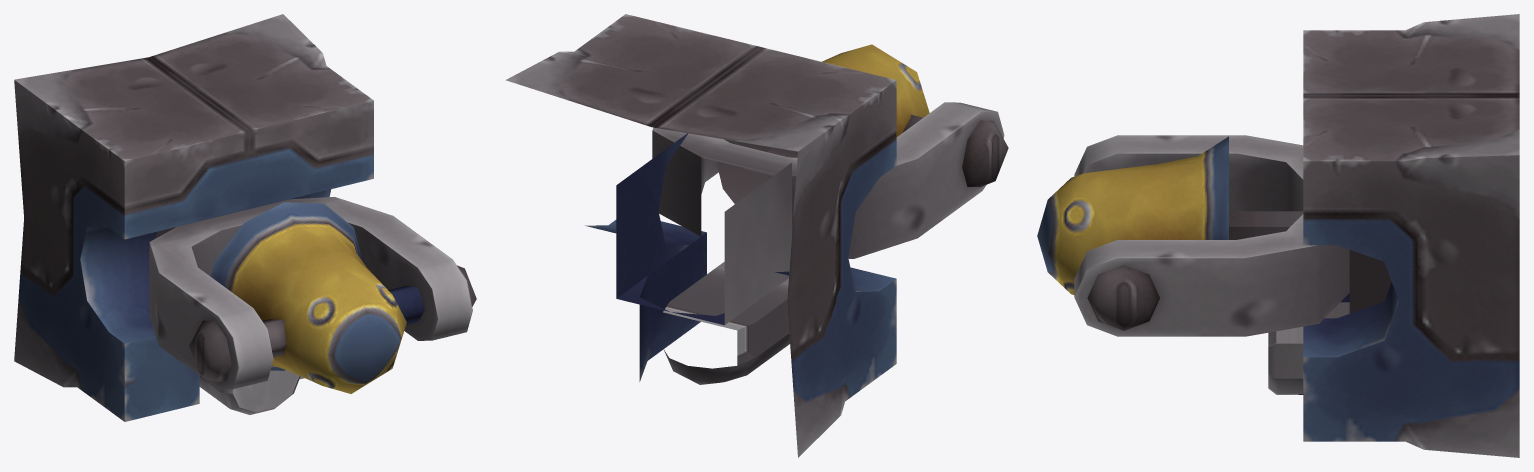
Rendered from model_beastbell.glb.
The picture shows the model from 3 angles, left to right: view 1: azimuth 30°, elevation 25°; view 2: azimuth 150°, elevation 25°; view 3: azimuth 270°, elevation 25°; orthographic projection. The views are drawn at different scales.
Parts seen in each view (by area): view 1: beastbell.model_beastbell-MeshNodes["beast_bell"], beastbell.model_beastbell-MeshNodes["beast_bell_fork"], beastbell.part_model_bell-Mesh[0]; view 2: beastbell.model_beastbell-MeshNodes["beast_bell"], beastbell.model_beastbell-MeshNodes["beast_bell_fork"], beastbell.part_model_bell-Mesh[0]; view 3: beastbell.model_beastbell-MeshNodes["beast_bell"], beastbell.model_beastbell-MeshNodes["beast_bell_fork"], beastbell.part_model_bell-Mesh[0].
Part boxes in pixels (box(x1,y1,x2,y2)): beastbell.model_beastbell-MeshNodes["beast_bell"]: box(14, 14, 373, 421); beastbell.model_beastbell-MeshNodes["beast_bell_fork"]: box(149, 197, 476, 389); beastbell.part_model_bell-Mesh[0]: box(210, 202, 406, 393); beastbell.model_beastbell-MeshNodes["beast_bell"]: box(505, 14, 896, 457); beastbell.model_beastbell-MeshNodes["beast_bell_fork"]: box(652, 102, 1008, 324); beastbell.part_model_bell-Mesh[0]: box(716, 44, 929, 203); beastbell.model_beastbell-MeshNodes["beast_bell"]: box(1268, 14, 1519, 457); beastbell.model_beastbell-MeshNodes["beast_bell_fork"]: box(1074, 135, 1391, 336); beastbell.part_model_bell-Mesh[0]: box(1037, 136, 1228, 294).
Bounding box in the file's own units: 1.08 × 1.1 × 1.56.
Materials: 2 (2 with a texture image).
